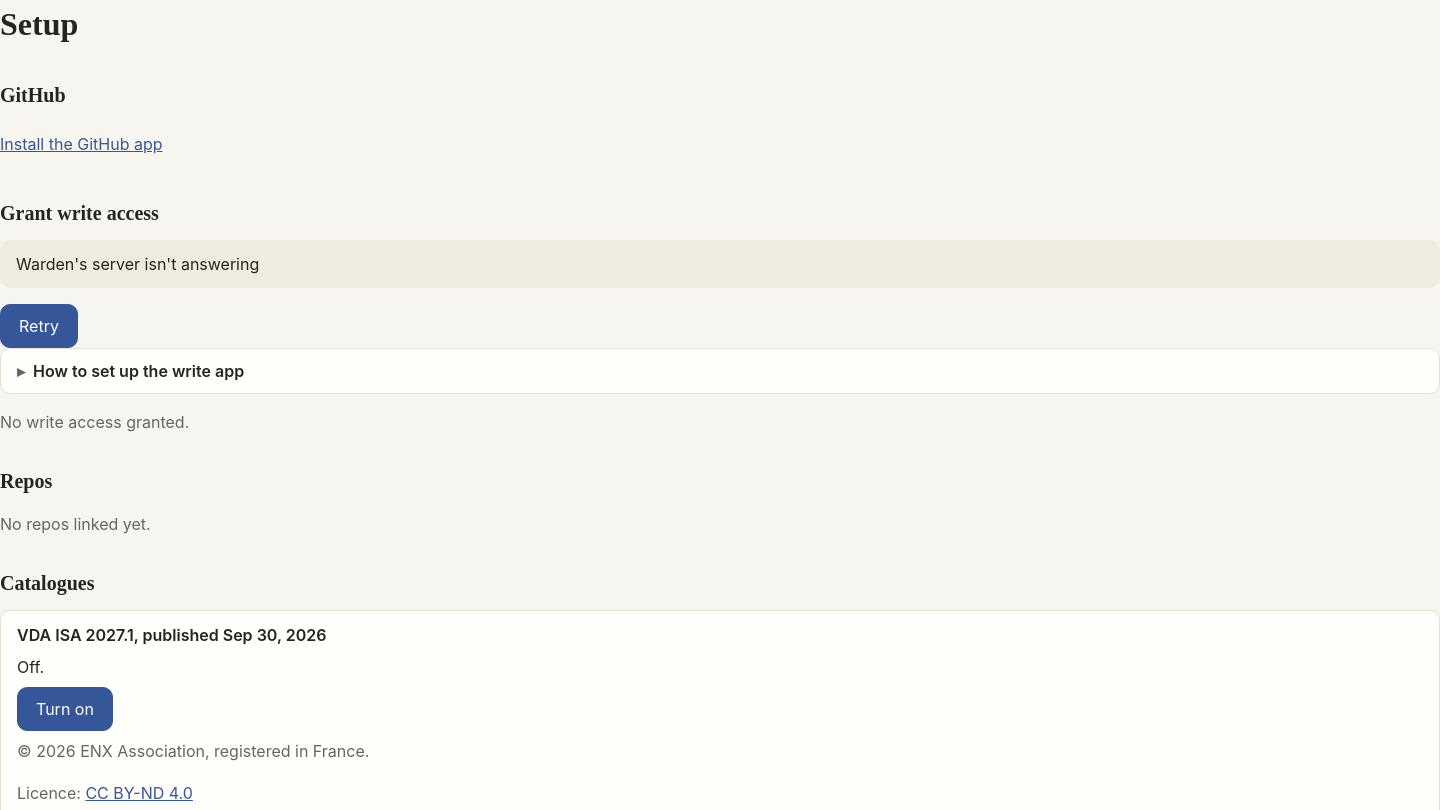
Test: SetupPage: Grant write access (#224, story 5) › shows the not-answering line with Retry when the write app answers 502, and the link after Retry
Expected: the text "Warden's server isn't answering" is shown, [0,240,1439,288]
Click the button "Retry" at (39, 326), box [0,304,78,348]
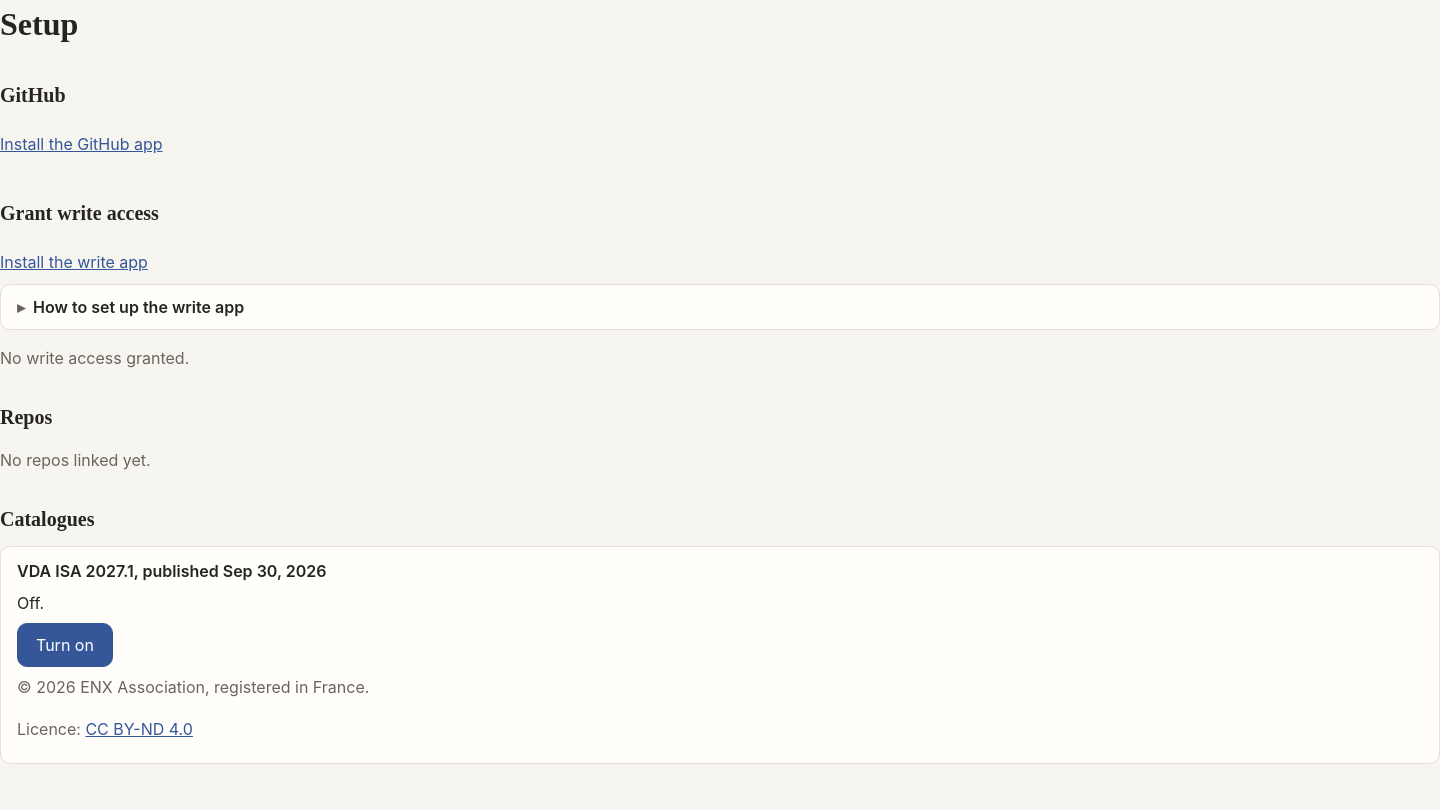
Expected: the link "Install the write app" is shown, [0,252,148,272]
